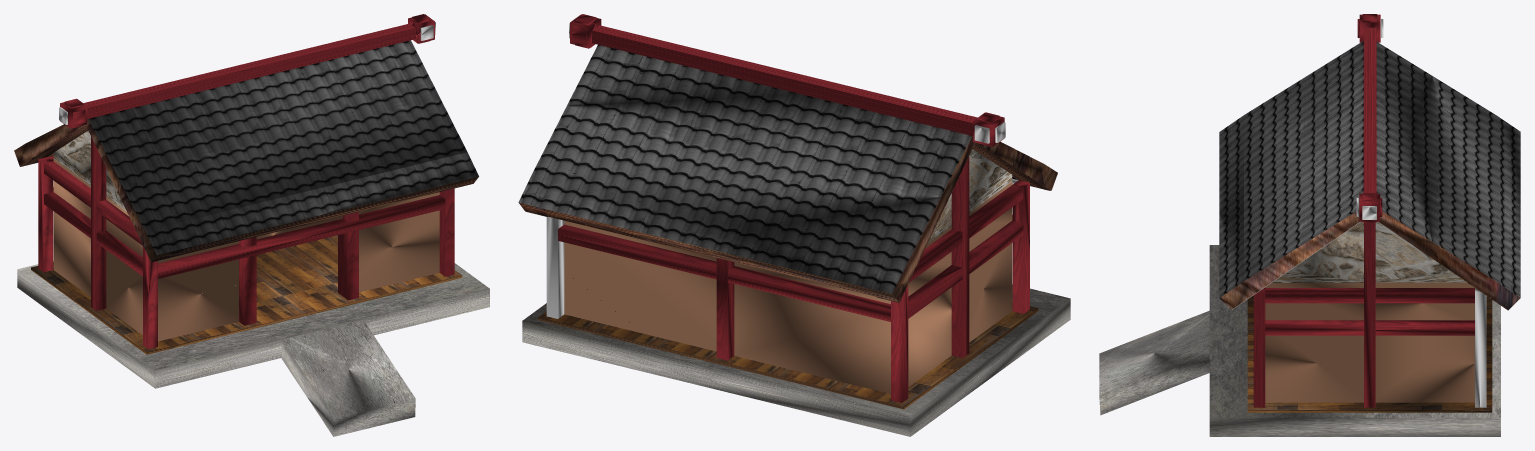
File: house_2.obj
The picture shows the model from 3 angles, left to right: view 1: azimuth 30°, elevation 25°; view 2: azimuth 150°, elevation 25°; view 3: azimuth 270°, elevation 25°; orthographic projection. The views are drawn at different scales.
Parts seen in each view (by area): view 1: polySurface69; view 2: polySurface69; view 3: polySurface69.
Boxes of the visible parts, left/top/right/bottom form: polySurface69: left=14, top=14, right=489, bottom=436; polySurface69: left=518, top=14, right=1070, bottom=436; polySurface69: left=1099, top=14, right=1520, bottom=436.
Bounding box in the file's own units: 38.69 × 27.29 × 36.16.
